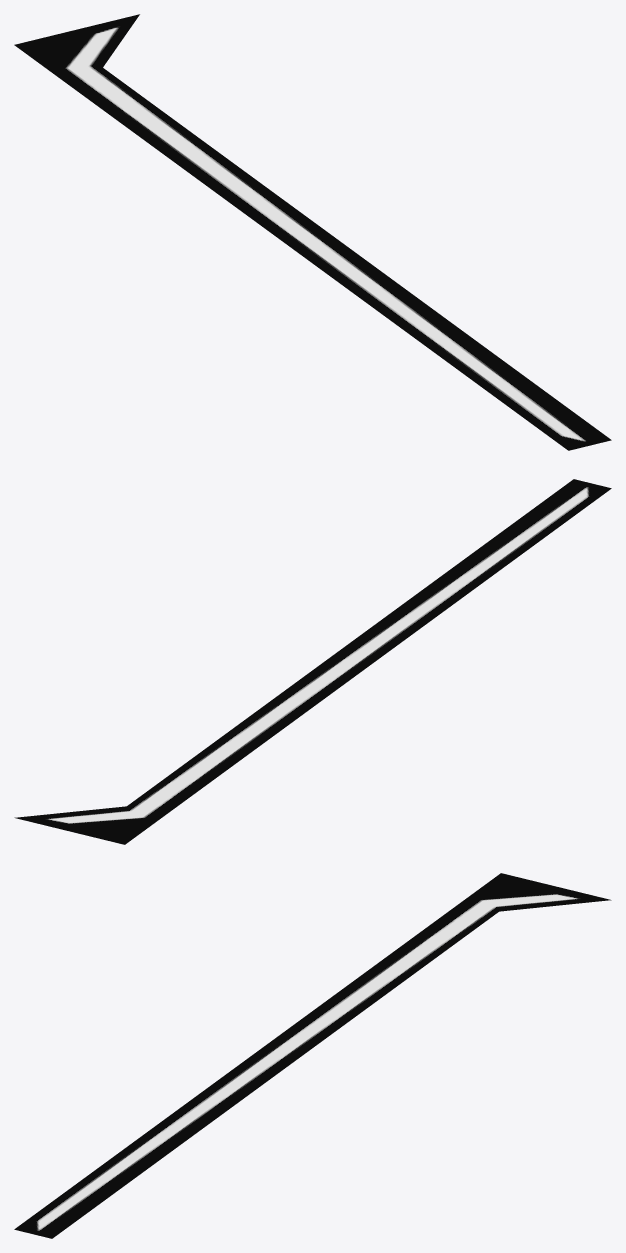
The model's file is SM_line_Angle_5.fbx.
3 views of the same model, one above another, from view 1: azimuth 30°, elevation 25°; view 2: azimuth 150°, elevation 25°; view 3: azimuth 330°, elevation 25° (orthographic). The views are drawn at different scales.
Parts seen in each view (by area): view 1: SM_line_Angle_5; view 2: SM_line_Angle_5; view 3: SM_line_Angle_5.
Boxes of the visible parts, left/top/right/bottom form: SM_line_Angle_5: left=14, top=14, right=611, bottom=450; SM_line_Angle_5: left=14, top=479, right=611, bottom=844; SM_line_Angle_5: left=14, top=873, right=611, bottom=1238.
Bounding box in the file's own units: 15.72 × 0 × 120.
